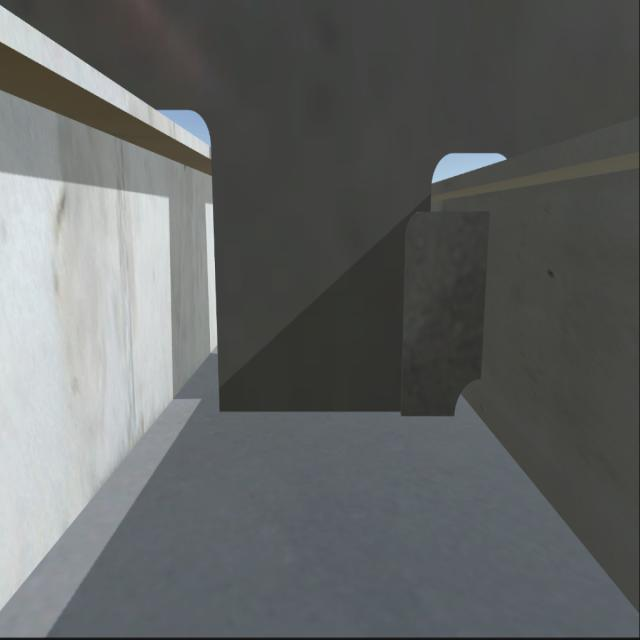fillet_hole: (452, 376, 482, 420)
fillet_yong_jeop_jang: (218, 412, 448, 420)
longi_yong_jeop_jang: (477, 216, 488, 372)
plate_CP05: (404, 215, 486, 419)
